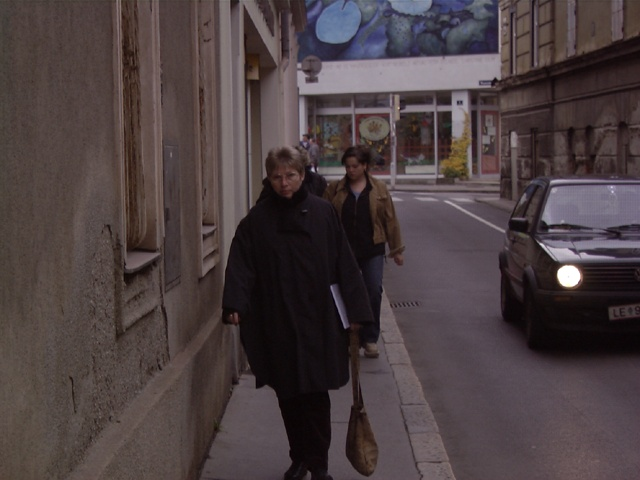person: (322, 141, 407, 357)
